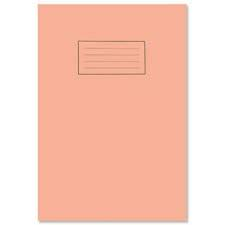Paper: (20, 1, 212, 225)
